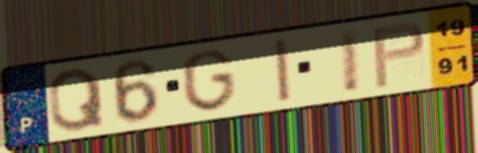6: (109, 56, 163, 126)
G: (179, 46, 239, 114)
I: (336, 25, 362, 97), (272, 35, 295, 105)
P: (369, 19, 429, 91)
Q: (45, 65, 108, 134)
